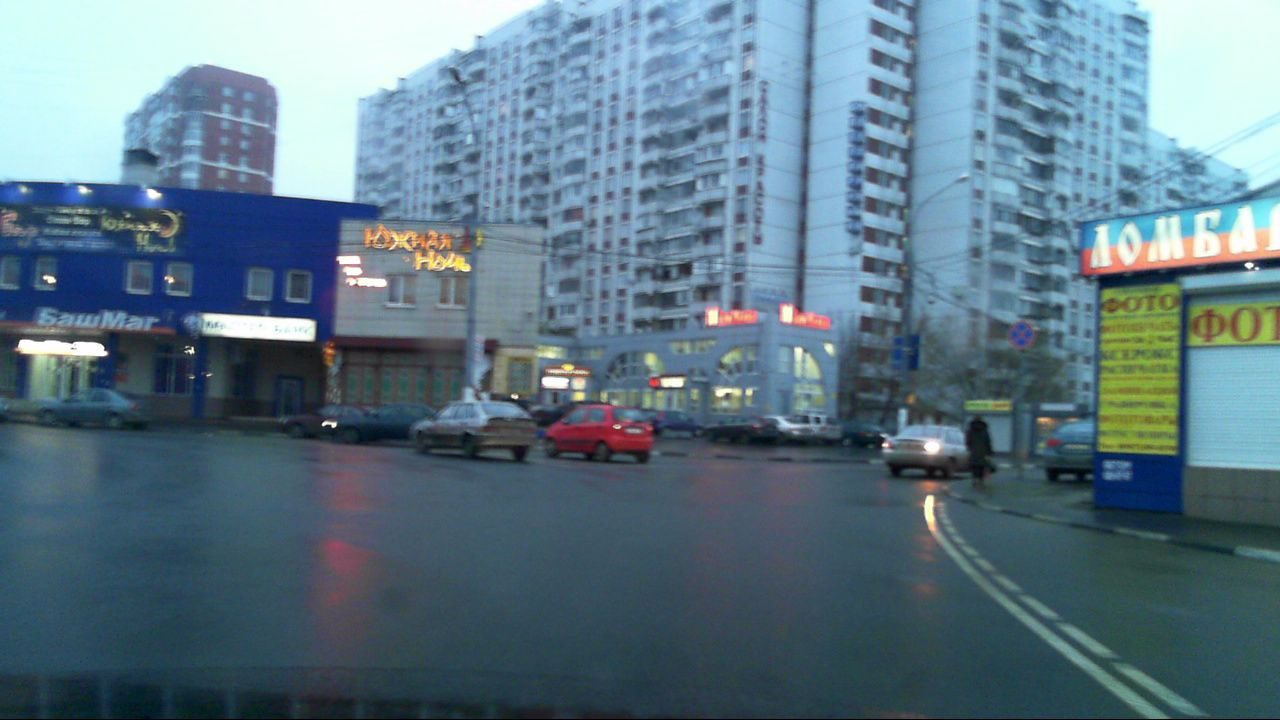No Parking: (1005, 321, 1034, 350)
